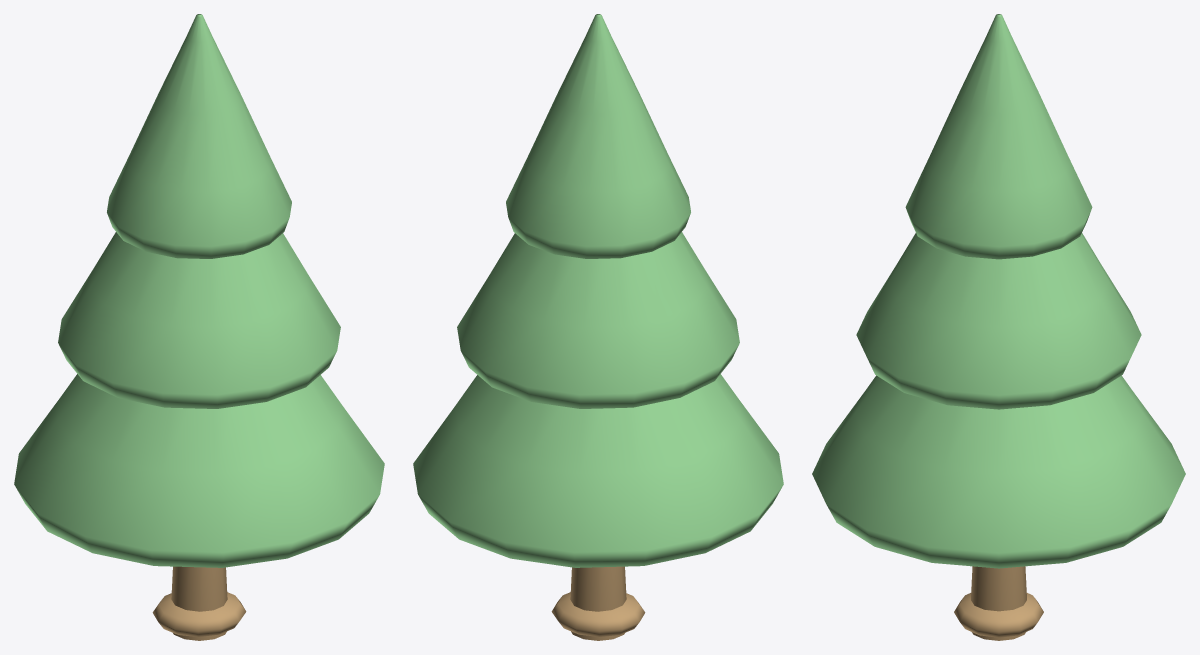
File: tree_pine_spring.glb
3 renders of one model, left to right at view 1: azimuth 30°, elevation 25°; view 2: azimuth 150°, elevation 25°; view 3: azimuth 270°, elevation 25°, orthographic.
Bounding box in the file's own units: 2.28 × 4.12 × 2.28.
